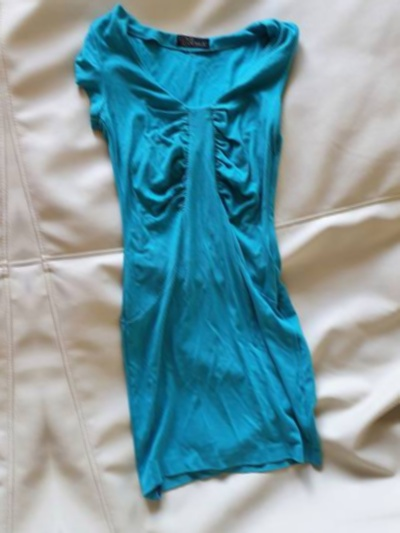Dress: (17, 0, 387, 522), (0, 22, 35, 533)
